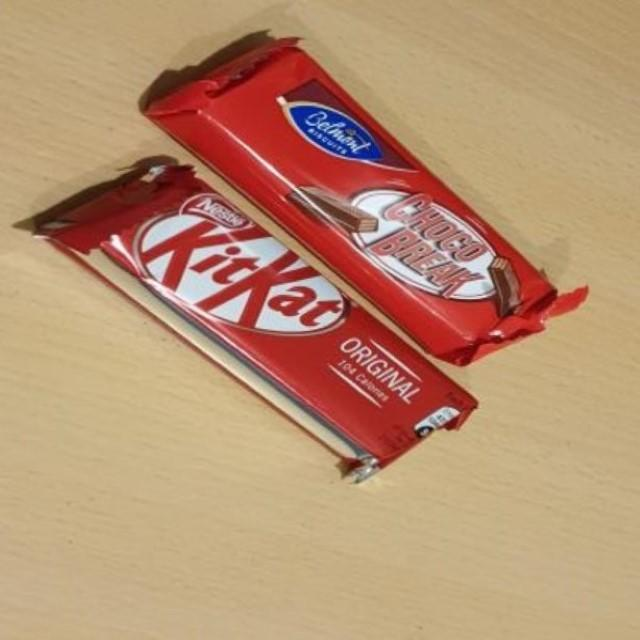kitkat_chocolate: (135, 215, 412, 425)
